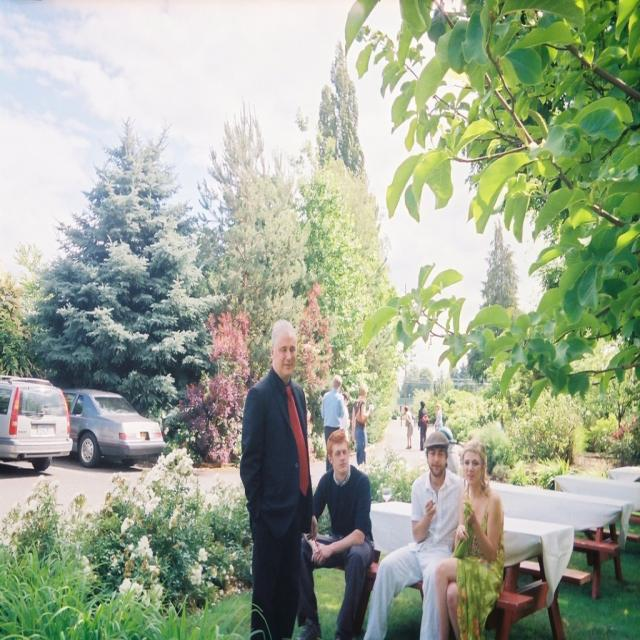car: (48, 387, 157, 472)
